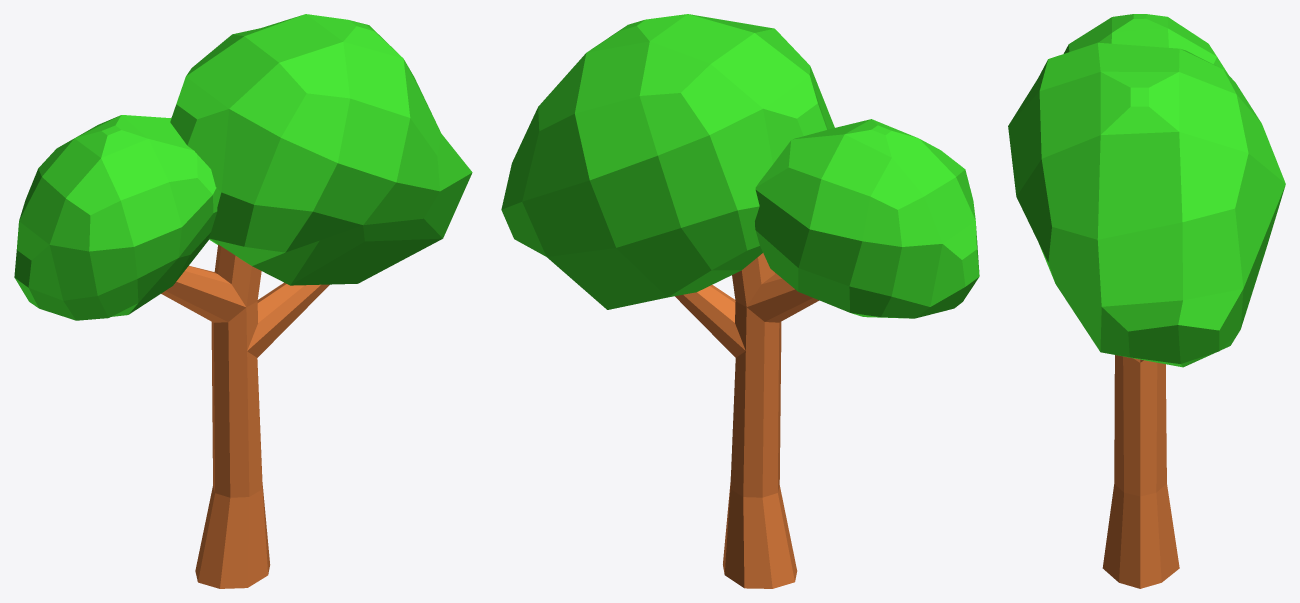
The model's file is trees_5.fbx.
The picture shows the model from 3 angles, left to right: view 1: azimuth 30°, elevation 25°; view 2: azimuth 150°, elevation 25°; view 3: azimuth 270°, elevation 25°; orthographic projection. The views are drawn at different scales.
Parts seen in each view (by area): view 1: 5; view 2: 5; view 3: 5.
Boxes of the visible parts, <box> form: 5: <box>14,14,472,588</box>; 5: <box>501,14,979,588</box>; 5: <box>1008,14,1285,588</box>.
Size of the model in its own units: 3.91 by 4.45 by 2.06.
